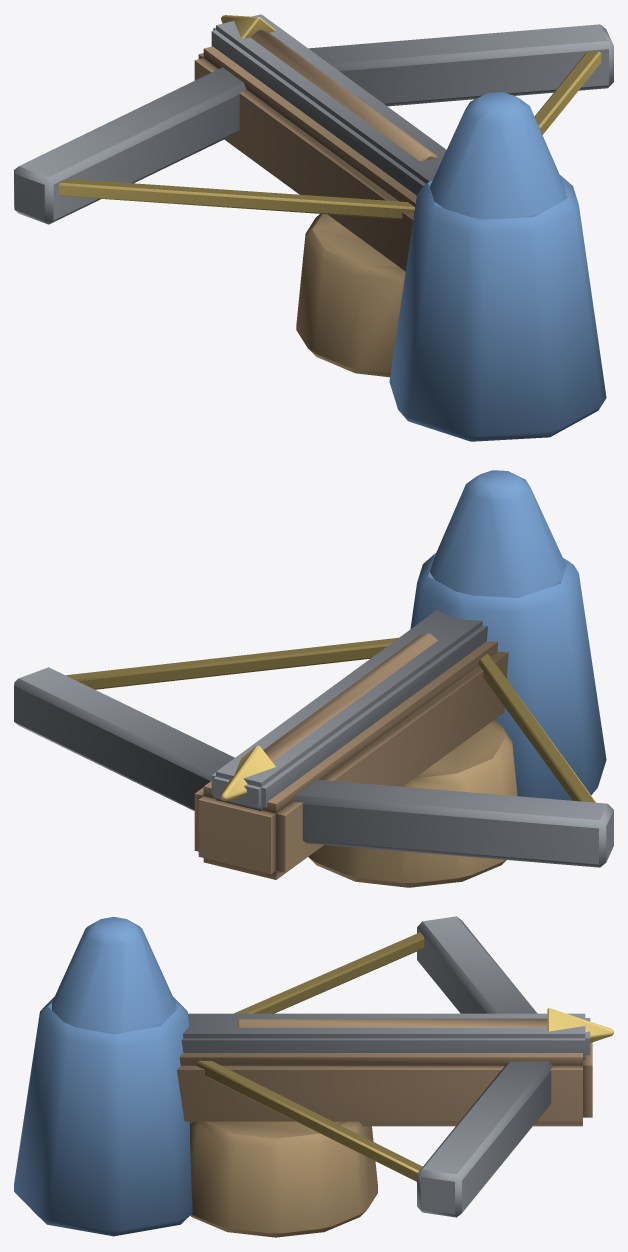
File: quill_archer_turret_lod0.glb
3 renders of one model, top to bottom at view 1: azimuth 30°, elevation 25°; view 2: azimuth 150°, elevation 25°; view 3: azimuth 270°, elevation 25°, orthographic. The views are drawn at different scales.
Parts seen in each view (by area): view 1: quill_archer_turret; view 2: quill_archer_turret; view 3: quill_archer_turret.
Part boxes in pixels (x1=…): quill_archer_turret: x1=14, y1=14, x2=613, y2=441; quill_archer_turret: x1=14, y1=470, x2=613, y2=887; quill_archer_turret: x1=14, y1=916, x2=613, y2=1237.
Bounding box in the file's own units: 1.3 × 0.63 × 1.26.
